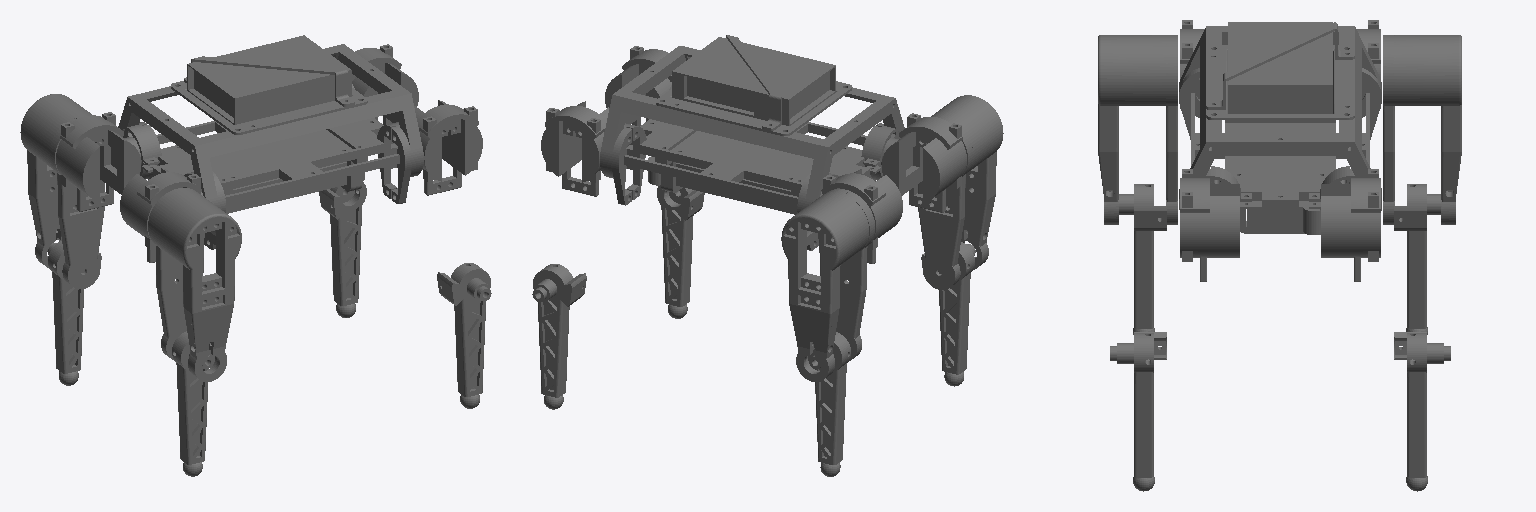
robot.urdf — qronk:
<?xml version="1.0" ?>
<!-- =================================================================================== -->
<!-- |    This document was autogenerated by xacro from qronk.urdf.xacro               | -->
<!-- |    EDITING THIS FILE BY HAND IS NOT RECOMMENDED                                 | -->
<!-- =================================================================================== -->
<robot name="qronk">
  <link name="base_link"/>
  <!-- RVIZ COLORS -->
  <material name="red">
    <color rgba="0.5 0 0 1"/>
  </material>
  <material name="green">
    <color rgba="0 0.5 0 1"/>
  </material>
  <material name="blue">
    <color rgba="0 0 0.5 1"/>
  </material>
  <material name="grey">
    <color rgba="0.5 0.5 0.5 1"/>
  </material>
  <!-- XACRO INERTIA MACROS -->
  <joint name="base_chassis_joint" type="fixed">
    <parent link="base_link"/>
    <child link="chassis_link"/>
    <origin rpy="0 0 0" xyz="0 0 0"/>
  </joint>
  <link name="chassis_link">
    <visual>
      <geometry>
        <mesh filename="package://qronk_description/meshes/chassis.stl" scale="0.001 0.001 0.001"/>
      </geometry>
      <origin rpy="0 0 0" xyz="0 0 0"/>
      <material name="grey"/>
    </visual>
    <collision>
      <geometry>
        <box size="0.185 0.136835 0.084144"/>
      </geometry>
      <origin rpy="0 0 0" xyz="0 0 0.003928"/>
    </collision>
    <inertial>
      <origin rpy="0 0 0" xyz="0 0 0.004"/>
      <mass value="0.3"/>
      <inertia ixx="0.001032025" ixy="0" ixz="0" iyy="0.0013248499999999998" iyz="0" izz="0.000645625"/>
    </inertial>
  </link>
  <joint name="chassis_battery_joint" type="fixed">
    <parent link="chassis_link"/>
    <child link="battery_link"/>
    <origin rpy="0 0 0" xyz="0 0 -0.0305"/>
  </joint>
  <link name="battery_link">
    <visual>
      <geometry>
        <mesh filename="package://qronk_description/meshes/battery.stl" scale="0.001 0.001 0.001"/>
      </geometry>
      <origin rpy="0 0 0" xyz="-0.069 -0.0225 0"/>
      <material name="grey"/>
    </visual>
    <collision>
      <geometry>
        <box size="0.138 0.045 0.018"/>
      </geometry>
      <origin rpy="0 0 0" xyz="0 0 0.009"/>
    </collision>
    <inertial>
      <origin rpy="0 0 0" xyz="0 0 0.009"/>
      <mass value="0.35"/>
      <inertia ixx="0.0005649" ixy="0" ixz="0" iyy="0.0006145125" iyz="0" izz="6.851249999999999e-05"/>
    </inertial>
  </link>
  <joint name="chassis_raspberry_joint" type="fixed">
    <parent link="chassis_link"/>
    <child link="raspberry_link"/>
    <origin rpy="0 0 0" xyz="0 0 0.044"/>
  </joint>
  <link name="raspberry_link">
    <visual>
      <geometry>
        <mesh filename="package://qronk_description/meshes/raspberry.stl" scale="0.001 0.001 0.001"/>
      </geometry>
      <origin rpy="0 0 0" xyz="-0.05 -0.035 0"/>
      <material name="grey"/>
    </visual>
    <collision>
      <geometry>
        <box size="0.1 0.07 0.025"/>
      </geometry>
      <origin rpy="0 0 0" xyz="0 0 0.0125"/>
    </collision>
    <inertial>
      <origin rpy="0 0 0" xyz="0 0 0.0125"/>
      <mass value="0.15"/>
      <inertia ixx="0.00013281250000000004" ixy="0" ixz="0" iyy="0.00018625000000000003" iyz="0" izz="6.90625e-05"/>
    </inertial>
  </link>
  <joint name="chassis_shoulder_FR_joint" type="revolute">
    <parent link="chassis_link"/>
    <child link="shoulder_FR_link"/>
    <origin rpy="0 0 0" xyz="0.0885 -0.047417 0.000052"/>
    <axis xyz="1 0 0"/>
    <limit effort="100" lower="-3.141592653589793" upper="3.141592653589793" velocity="100"/>
  </joint>
  <link name="shoulder_FR_link">
    <visual>
      <geometry>
        <mesh filename="package://qronk_description/meshes/shoulder_FR.stl" scale="0.001 0.001 0.001"/>
      </geometry>
      <origin rpy="0 0 0" xyz="0 0 0"/>
      <material name="grey"/>
    </visual>
    <collision>
      <geometry>
        <box size="0.05 0.04 0.068"/>
      </geometry>
      <origin rpy="0 0 0" xyz="0.03 0 -0.005"/>
    </collision>
    <inertial>
      <origin rpy="0 0 0" xyz="0.03 0 -0.005"/>
      <mass value="0.1"/>
      <inertia ixx="5.936666666666668e-05" ixy="0" ixz="0" iyy="3.416666666666667e-05" iyz="0" izz="5.186666666666667e-05"/>
    </inertial>
  </link>
  <joint name="shoulder_upper_leg_FR_joint" type="revolute">
    <parent link="shoulder_FR_link"/>
    <child link="upper_leg_FR_link"/>
    <origin rpy="0 0 0" xyz="0.03 -0.0214 -0.00002"/>
    <axis xyz="0 1 0"/>
    <limit effort="100" lower="-3.141592653589793" upper="3.141592653589793" velocity="100"/>
  </joint>
  <link name="upper_leg_FR_link">
    <visual>
      <geometry>
        <mesh filename="package://qronk_description/meshes/upper_leg_FR.stl" scale="0.001 0.001 0.001"/>
      </geometry>
      <origin rpy="0 0 0" xyz="0 0 0"/>
      <material name="grey"/>
    </visual>
    <collision>
      <geometry>
        <box size="0.05 0.0532 0.137"/>
      </geometry>
      <origin rpy="0 0 0" xyz="0 -0.0266 -0.0435"/>
    </collision>
    <inertial>
      <origin rpy="0 0 0" xyz="0 -0.0266 -0.0435"/>
      <mass value="0.1"/>
      <inertia ixx="2.239741666666667e-05" ixy="0" ixz="0" iyy="4.441866666666667e-05" iyz="0" izz="2.5149416666666667e-05"/>
    </inertial>
  </link>
  <joint name="upper_leg_lower_leg_FR_joint" type="revolute">
    <parent link="upper_leg_FR_link"/>
    <child link="lower_leg_FR_link"/>
    <origin rpy="0 0 0" xyz="0 -0.016349 -0.098459"/>
    <axis xyz="0 1 0"/>
    <limit effort="100" lower="-3.141592653589793" upper="3.141592653589793" velocity="100"/>
  </joint>
  <link name="lower_leg_FR_link">
    <visual>
      <geometry>
        <mesh filename="package://qronk_description/meshes/lower_leg_FR.stl" scale="0.001 0.001 0.001"/>
      </geometry>
      <origin rpy="0 0 0" xyz="0 0 0"/>
      <material name="grey"/>
    </visual>
    <collision>
      <geometry>
        <box size="0.028 0.0134 0.102"/>
      </geometry>
      <origin rpy="0 0 0" xyz="0 -0.0067 -0.037"/>
    </collision>
    <inertial>
      <origin rpy="0 0 0" xyz="0 -0.0067 -0.037"/>
      <mass value="0.1"/>
      <inertia ixx="9.323333333333333e-05" ixy="0" ixz="0" iyy="8.029666666666669e-06" iyz="0" izz="8.819633333333333e-05"/>
    </inertial>
  </link>
  <joint name="lower_leg_foot_FR_joint" type="fixed">
    <parent link="lower_leg_FR_link"/>
    <child link="foot_FR_link"/>
    <origin rpy="0 0 0" xyz="0 -0.0066835 -0.09416"/>
  </joint>
  <link name="foot_FR_link">
    <visual>
      <geometry>
        <sphere radius="0.0075"/>
      </geometry>
      <origin rpy="0 0 0" xyz="0 0 0"/>
      <material name="grey"/>
    </visual>
    <collision>
      <geometry>
        <sphere radius="0.0075"/>
      </geometry>
      <origin rpy="0 0 0" xyz="0 0 0"/>
    </collision>
    <inertial>
      <origin rpy="0 0 0" xyz="0 0 0"/>
      <mass value="0.05"/>
      <inertia ixx="1.125e-06" ixy="0" ixz="0" iyy="1.125e-06" iyz="0" izz="1.125e-06"/>
    </inertial>
  </link>
  <joint name="chassis_shoulder_FL_joint" type="revolute">
    <parent link="chassis_link"/>
    <child link="shoulder_FL_link"/>
    <origin rpy="0 0 0" xyz="0.0885 0.047417 0.000052"/>
    <axis xyz="1 0 0"/>
    <limit effort="100" lower="-3.141592653589793" upper="3.141592653589793" velocity="100"/>
  </joint>
  <link name="shoulder_FL_link">
    <visual>
      <geometry>
        <mesh filename="package://qronk_description/meshes/shoulder_FL.stl" scale="0.001 0.001 0.001"/>
      </geometry>
      <origin rpy="0 0 0" xyz="0 0 0"/>
      <material name="grey"/>
    </visual>
    <collision>
      <geometry>
        <box size="0.05 0.04 0.068"/>
      </geometry>
      <origin rpy="0 0 0" xyz="0.03 -0 -0.005"/>
    </collision>
    <inertial>
      <origin rpy="0 0 0" xyz="0.03 -0 -0.005"/>
      <mass value="0.1"/>
      <inertia ixx="5.936666666666668e-05" ixy="0" ixz="0" iyy="3.416666666666667e-05" iyz="0" izz="5.186666666666667e-05"/>
    </inertial>
  </link>
  <joint name="shoulder_upper_leg_FL_joint" type="revolute">
    <parent link="shoulder_FL_link"/>
    <child link="upper_leg_FL_link"/>
    <origin rpy="0 0 0" xyz="0.03 0.0214 -0.00002"/>
    <axis xyz="0 1 0"/>
    <limit effort="100" lower="-3.141592653589793" upper="3.141592653589793" velocity="100"/>
  </joint>
  <link name="upper_leg_FL_link">
    <visual>
      <geometry>
        <mesh filename="package://qronk_description/meshes/upper_leg_FL.stl" scale="0.001 0.001 0.001"/>
      </geometry>
      <origin rpy="0 0 0" xyz="0 0 0"/>
      <material name="grey"/>
    </visual>
    <collision>
      <geometry>
        <box size="0.05 0.0532 0.137"/>
      </geometry>
      <origin rpy="0 0 0" xyz="0 0.0266 -0.0435"/>
    </collision>
    <inertial>
      <origin rpy="0 0 0" xyz="0 0.0266 -0.0435"/>
      <mass value="0.1"/>
      <inertia ixx="2.239741666666667e-05" ixy="0" ixz="0" iyy="4.441866666666667e-05" iyz="0" izz="2.5149416666666667e-05"/>
    </inertial>
  </link>
  <joint name="upper_leg_lower_leg_FL_joint" type="revolute">
    <parent link="upper_leg_FL_link"/>
    <child link="lower_leg_FL_link"/>
    <origin rpy="0 0 0" xyz="0 0.016349 -0.098459"/>
    <axis xyz="0 1 0"/>
    <limit effort="100" lower="-3.141592653589793" upper="3.141592653589793" velocity="100"/>
  </joint>
  <link name="lower_leg_FL_link">
    <visual>
      <geometry>
        <mesh filename="package://qronk_description/meshes/lower_leg_FL.stl" scale="0.001 0.001 0.001"/>
      </geometry>
      <origin rpy="0 0 0" xyz="0 0 0"/>
      <material name="grey"/>
    </visual>
    <collision>
      <geometry>
        <box size="0.028 0.0134 0.102"/>
      </geometry>
      <origin rpy="0 0 0" xyz="0 0.0067 -0.037"/>
    </collision>
    <inertial>
      <origin rpy="0 0 0" xyz="0 0.0067 -0.037"/>
      <mass value="0.1"/>
      <inertia ixx="9.323333333333333e-05" ixy="0" ixz="0" iyy="8.029666666666669e-06" iyz="0" izz="8.819633333333333e-05"/>
    </inertial>
  </link>
  <joint name="lower_leg_foot_FL_joint" type="fixed">
    <parent link="lower_leg_FL_link"/>
    <child link="foot_FL_link"/>
    <origin rpy="0 0 0" xyz="0 0.0066835 -0.09416"/>
  </joint>
  <link name="foot_FL_link">
    <visual>
      <geometry>
        <sphere radius="0.0075"/>
      </geometry>
      <origin rpy="0 0 0" xyz="0 0 0"/>
      <material name="grey"/>
    </visual>
    <collision>
      <geometry>
        <sphere radius="0.0075"/>
      </geometry>
      <origin rpy="0 0 0" xyz="0 0 0"/>
    </collision>
    <inertial>
      <origin rpy="0 0 0" xyz="0 0 0"/>
      <mass value="0.05"/>
      <inertia ixx="1.125e-06" ixy="0" ixz="0" iyy="1.125e-06" iyz="0" izz="1.125e-06"/>
    </inertial>
  </link>
  <joint name="chassis_shoulder_BR_joint" type="revolute">
    <parent link="chassis_link"/>
    <child link="shoulder_BR_link"/>
    <origin rpy="0 0 0" xyz="-0.0885 -0.047417 0.000052"/>
    <axis xyz="1 0 0"/>
    <limit effort="100" lower="-3.141592653589793" upper="3.141592653589793" velocity="100"/>
  </joint>
  <link name="shoulder_BR_link">
    <visual>
      <geometry>
        <mesh filename="package://qronk_description/meshes/shoulder_BR.stl" scale="0.001 0.001 0.001"/>
      </geometry>
      <origin rpy="0 0 0" xyz="0 0 0"/>
      <material name="grey"/>
    </visual>
    <collision>
      <geometry>
        <box size="0.05 0.04 0.068"/>
      </geometry>
      <origin rpy="0 0 0" xyz="-0.03 0 -0.005"/>
    </collision>
    <inertial>
      <origin rpy="0 0 0" xyz="-0.03 0 -0.005"/>
      <mass value="0.1"/>
      <inertia ixx="5.936666666666668e-05" ixy="0" ixz="0" iyy="3.416666666666667e-05" iyz="0" izz="5.186666666666667e-05"/>
    </inertial>
  </link>
  <joint name="shoulder_upper_leg_BR_joint" type="revolute">
    <parent link="shoulder_BR_link"/>
    <child link="upper_leg_BR_link"/>
    <origin rpy="0 0 0" xyz="-0.03 -0.0214 -0.00002"/>
    <axis xyz="0 1 0"/>
    <limit effort="100" lower="-3.141592653589793" upper="3.141592653589793" velocity="100"/>
  </joint>
  <link name="upper_leg_BR_link">
    <visual>
      <geometry>
        <mesh filename="package://qronk_description/meshes/upper_leg_BR.stl" scale="0.001 0.001 0.001"/>
      </geometry>
      <origin rpy="0 0 0" xyz="0 0 0"/>
      <material name="grey"/>
    </visual>
    <collision>
      <geometry>
        <box size="0.05 0.0532 0.137"/>
      </geometry>
      <origin rpy="0 0 0" xyz="-0 -0.0266 -0.0435"/>
    </collision>
    <inertial>
      <origin rpy="0 0 0" xyz="-0 -0.0266 -0.0435"/>
      <mass value="0.1"/>
      <inertia ixx="2.239741666666667e-05" ixy="0" ixz="0" iyy="4.441866666666667e-05" iyz="0" izz="2.5149416666666667e-05"/>
    </inertial>
  </link>
  <joint name="upper_leg_lower_leg_BR_joint" type="revolute">
    <parent link="upper_leg_BR_link"/>
    <child link="lower_leg_BR_link"/>
    <origin rpy="0 0 0" xyz="-0 -0.016349 -0.098459"/>
    <axis xyz="0 1 0"/>
    <limit effort="100" lower="-3.141592653589793" upper="3.141592653589793" velocity="100"/>
  </joint>
  <link name="lower_leg_BR_link">
    <visual>
      <geometry>
        <mesh filename="package://qronk_description/meshes/lower_leg_BR.stl" scale="0.001 0.001 0.001"/>
      </geometry>
      <origin rpy="0 0 0" xyz="0 0 0"/>
      <material name="grey"/>
    </visual>
    <collision>
      <geometry>
        <box size="0.028 0.0134 0.102"/>
      </geometry>
      <origin rpy="0 0 0" xyz="-0 -0.0067 -0.037"/>
    </collision>
    <inertial>
      <origin rpy="0 0 0" xyz="-0 -0.0067 -0.037"/>
      <mass value="0.1"/>
      <inertia ixx="9.323333333333333e-05" ixy="0" ixz="0" iyy="8.029666666666669e-06" iyz="0" izz="8.819633333333333e-05"/>
    </inertial>
  </link>
  <joint name="lower_leg_foot_BR_joint" type="fixed">
    <parent link="lower_leg_BR_link"/>
    <child link="foot_BR_link"/>
    <origin rpy="0 0 0" xyz="-0 -0.0066835 -0.09416"/>
  </joint>
  <link name="foot_BR_link">
    <visual>
      <geometry>
        <sphere radius="0.0075"/>
      </geometry>
      <origin rpy="0 0 0" xyz="0 0 0"/>
      <material name="grey"/>
    </visual>
    <collision>
      <geometry>
        <sphere radius="0.0075"/>
      </geometry>
      <origin rpy="0 0 0" xyz="0 0 0"/>
    </collision>
    <inertial>
      <origin rpy="0 0 0" xyz="0 0 0"/>
      <mass value="0.05"/>
      <inertia ixx="1.125e-06" ixy="0" ixz="0" iyy="1.125e-06" iyz="0" izz="1.125e-06"/>
    </inertial>
  </link>
  <joint name="chassis_shoulder_BL_joint" type="revolute">
    <parent link="chassis_link"/>
    <child link="shoulder_BL_link"/>
    <origin rpy="0 0 0" xyz="-0.0885 0.047417 0.000052"/>
    <axis xyz="1 0 0"/>
    <limit effort="100" lower="-3.141592653589793" upper="3.141592653589793" velocity="100"/>
  </joint>
  <link name="shoulder_BL_link">
    <visual>
      <geometry>
        <mesh filename="package://qronk_description/meshes/shoulder_BL.stl" scale="0.001 0.001 0.001"/>
      </geometry>
      <origin rpy="0 0 0" xyz="0 0 0"/>
      <material name="grey"/>
    </visual>
    <collision>
      <geometry>
        <box size="0.05 0.04 0.068"/>
      </geometry>
      <origin rpy="0 0 0" xyz="-0.03 -0 -0.005"/>
    </collision>
    <inertial>
      <origin rpy="0 0 0" xyz="-0.03 -0 -0.005"/>
      <mass value="0.1"/>
      <inertia ixx="5.936666666666668e-05" ixy="0" ixz="0" iyy="3.416666666666667e-05" iyz="0" izz="5.186666666666667e-05"/>
    </inertial>
  </link>
  <joint name="shoulder_upper_leg_BL_joint" type="revolute">
    <parent link="shoulder_BL_link"/>
    <child link="upper_leg_BL_link"/>
    <origin rpy="0 0 0" xyz="-0.03 0.0214 -0.00002"/>
    <axis xyz="0 1 0"/>
    <limit effort="100" lower="-3.141592653589793" upper="3.141592653589793" velocity="100"/>
  </joint>
  <link name="upper_leg_BL_link">
    <visual>
      <geometry>
        <mesh filename="package://qronk_description/meshes/upper_leg_BL.stl" scale="0.001 0.001 0.001"/>
      </geometry>
      <origin rpy="0 0 0" xyz="0 0 0"/>
      <material name="grey"/>
    </visual>
    <collision>
      <geometry>
        <box size="0.05 0.0532 0.137"/>
      </geometry>
      <origin rpy="0 0 0" xyz="-0 0.0266 -0.0435"/>
    </collision>
    <inertial>
      <origin rpy="0 0 0" xyz="-0 0.0266 -0.0435"/>
      <mass value="0.1"/>
      <inertia ixx="2.239741666666667e-05" ixy="0" ixz="0" iyy="4.441866666666667e-05" iyz="0" izz="2.5149416666666667e-05"/>
    </inertial>
  </link>
  <joint name="upper_leg_lower_leg_BL_joint" type="revolute">
    <parent link="upper_leg_BL_link"/>
    <child link="lower_leg_BL_link"/>
    <origin rpy="0 0 0" xyz="-0 0.016349 -0.098459"/>
    <axis xyz="0 1 0"/>
    <limit effort="100" lower="-3.141592653589793" upper="3.141592653589793" velocity="100"/>
  </joint>
  <link name="lower_leg_BL_link">
    <visual>
      <geometry>
        <mesh filename="package://qronk_description/meshes/lower_leg_BL.stl" scale="0.001 0.001 0.001"/>
      </geometry>
      <origin rpy="0 0 0" xyz="0 0 0"/>
      <material name="grey"/>
    </visual>
    <collision>
      <geometry>
        <box size="0.028 0.0134 0.102"/>
      </geometry>
      <origin rpy="0 0 0" xyz="-0 0.0067 -0.037"/>
    </collision>
    <inertial>
      <origin rpy="0 0 0" xyz="-0 0.0067 -0.037"/>
      <mass value="0.1"/>
      <inertia ixx="9.323333333333333e-05" ixy="0" ixz="0" iyy="8.029666666666669e-06" iyz="0" izz="8.819633333333333e-05"/>
    </inertial>
  </link>
  <joint name="lower_leg_foot_BL_joint" type="fixed">
    <parent link="lower_leg_BL_link"/>
    <child link="foot_BL_link"/>
    <origin rpy="0 0 0" xyz="-0 0.0066835 -0.09416"/>
  </joint>
  <link name="foot_BL_link">
    <visual>
      <geometry>
        <sphere radius="0.0075"/>
      </geometry>
      <origin rpy="0 0 0" xyz="0 0 0"/>
      <material name="grey"/>
    </visual>
    <collision>
      <geometry>
        <sphere radius="0.0075"/>
      </geometry>
      <origin rpy="0 0 0" xyz="0 0 0"/>
    </collision>
    <inertial>
      <origin rpy="0 0 0" xyz="0 0 0"/>
      <mass value="0.05"/>
      <inertia ixx="1.125e-06" ixy="0" ixz="0" iyy="1.125e-06" iyz="0" izz="1.125e-06"/>
    </inertial>
  </link>
  <!-- chassis.xacro materials -->
  <gazebo reference="chassis_link">
    <material>Gazebo/Grey</material>
  </gazebo>
  <gazebo reference="battery_link">
    <material>Gazebo/Grey</material>
  </gazebo>
  <gazebo reference="raspberry_link">
    <material>Gazebo/Grey</material>
  </gazebo>
  <!-- leg_FR.xacro materials -->
  <gazebo reference="shoulder_FR_link">
    <material>Gazebo/Grey</material>
  </gazebo>
  <gazebo reference="upper_leg_FR_link">
    <material>Gazebo/Grey</material>
  </gazebo>
  <gazebo reference="lower_leg_FR_link">
    <material>Gazebo/Grey</material>
  </gazebo>
  <gazebo reference="foot_FR_link">
    <material>Gazebo/Grey</material>
  </gazebo>
  <!-- leg_FL.xacro materials -->
  <gazebo reference="shoulder_FL_link">
    <material>Gazebo/Grey</material>
  </gazebo>
  <gazebo reference="upper_leg_FL_link">
    <material>Gazebo/Grey</material>
  </gazebo>
  <gazebo reference="lower_leg_FL_link">
    <material>Gazebo/Grey</material>
  </gazebo>
  <gazebo reference="foot_FL_link">
    <material>Gazebo/Grey</material>
  </gazebo>
  <!-- leg_BR.xacro materials -->
  <gazebo reference="shoulder_BR_link">
    <material>Gazebo/Grey</material>
  </gazebo>
  <gazebo reference="upper_leg_BR_link">
    <material>Gazebo/Grey</material>
  </gazebo>
  <gazebo reference="lower_leg_BR_link">
    <material>Gazebo/Grey</material>
  </gazebo>
  <gazebo reference="foot_BR_link">
    <material>Gazebo/Grey</material>
  </gazebo>
  <!-- leg_BL.xacro materials -->
  <gazebo reference="shoulder_BL_link">
    <material>Gazebo/Grey</material>
  </gazebo>
  <gazebo reference="upper_leg_BL_link">
    <material>Gazebo/Grey</material>
  </gazebo>
  <gazebo reference="lower_leg_BL_link">
    <material>Gazebo/Grey</material>
  </gazebo>
  <gazebo reference="foot_BL_link">
    <material>Gazebo/Grey</material>
  </gazebo>
  <!-- Gazebo plugins for servo joints -->
  <!-- Refer to https://github.com/ros-simulation/gazebo_ros_pkgs/tree/ros2/gazebo_plugins/include/gazebo_plugins -->
  <gazebo>
    <plugin filename="libgazebo_ros_joint_state_publisher.so" name="joint_state_publisher">
      <!-- Update rate in Hertz -->
      <update_rate>10</update_rate>
      <!-- Name of joints in the model whose states will be published. -->
      <joint_name>chassis_shoulder_FR_joint</joint_name>
      <joint_name>shoulder_upper_leg_FR_joint</joint_name>
      <joint_name>upper_leg_lower_leg_FR_joint</joint_name>
      <joint_name>lower_leg_foot_FR_joint</joint_name>
      <joint_name>chassis_shoulder_FL_joint</joint_name>
      <joint_name>shoulder_upper_leg_FL_joint</joint_name>
      <joint_name>upper_leg_lower_leg_FL_joint</joint_name>
      <joint_name>lower_leg_foot_FL_joint</joint_name>
      <joint_name>chassis_shoulder_BR_joint</joint_name>
      <joint_name>shoulder_upper_leg_BR_joint</joint_name>
      <joint_name>upper_leg_lower_leg_BR_joint</joint_name>
      <joint_name>lower_leg_foot_BR_joint</joint_name>
      <joint_name>chassis_shoulder_BL_joint</joint_name>
      <joint_name>shoulder_upper_leg_BL_joint</joint_name>
      <joint_name>upper_leg_lower_leg_BL_joint</joint_name>
      <joint_name>lower_leg_foot_BL_joint</joint_name>
    </plugin>
  </gazebo>
  <gazebo>
    <plugin filename="libgazebo_ros_joint_pose_trajectory.so" name="joint_pose_trajectory">
      <!-- Update rate in Hz -->
      <update_rate>2</update_rate>
    </plugin>
  </gazebo>
  <!-- <xacro:include filename="imu.xacro" /> -->
</robot>

--- Render facts (derived) ---
The picture shows the robot from 3 angles, left to right: view 1: azimuth 30°, elevation 25°; view 2: azimuth 150°, elevation 25°; view 3: azimuth 270°, elevation 25°; orthographic projection.
Robot: qronk — 20 links, 19 joints (12 revolute, 7 fixed); root link base_link; default pose: every joint at zero.
Links seen in each view (by area): view 1: chassis_link, upper_leg_BR_link, upper_leg_BL_link, raspberry_link, shoulder_BL_link, shoulder_FR_link, lower_leg_FR_link, lower_leg_FL_link, lower_leg_BR_link, lower_leg_BL_link, shoulder_BR_link, shoulder_FL_link (+1 smaller); view 2: chassis_link, upper_leg_BL_link, upper_leg_BR_link, raspberry_link, shoulder_BR_link, shoulder_FL_link, lower_leg_FL_link, lower_leg_FR_link, lower_leg_BL_link, lower_leg_BR_link, shoulder_BL_link, shoulder_FR_link (+1 smaller); view 3: chassis_link, upper_leg_BR_link, upper_leg_BL_link, raspberry_link, shoulder_FR_link, shoulder_FL_link, lower_leg_FR_link, lower_leg_FL_link, lower_leg_BR_link, lower_leg_BL_link, battery_link, shoulder_BR_link (+1 smaller).
Boxes of the visible links, left/top/right/bottom form: chassis_link: left=118, top=44, right=423, bottom=249; upper_leg_BR_link: left=148, top=188, right=241, bottom=381; upper_leg_BL_link: left=20, top=94, right=104, bottom=288; raspberry_link: left=187, top=35, right=351, bottom=124; shoulder_BL_link: left=56, top=112, right=141, bottom=211; shoulder_FR_link: left=414, top=100, right=482, bottom=195; lower_leg_FR_link: left=437, top=263, right=491, bottom=396; lower_leg_FL_link: left=319, top=181, right=366, bottom=305; lower_leg_BR_link: left=172, top=331, right=214, bottom=464; lower_leg_BL_link: left=47, top=241, right=101, bottom=373; shoulder_BR_link: left=120, top=168, right=203, bottom=262; shoulder_FL_link: left=352, top=44, right=418, bottom=124; chassis_link: left=600, top=35, right=904, bottom=250; upper_leg_BL_link: left=781, top=189, right=874, bottom=381; upper_leg_BR_link: left=918, top=95, right=1003, bottom=289; raspberry_link: left=672, top=37, right=835, bottom=125; shoulder_BR_link: left=881, top=113, right=966, bottom=212; shoulder_FL_link: left=541, top=101, right=626, bottom=196; lower_leg_FL_link: left=532, top=264, right=586, bottom=397; lower_leg_FR_link: left=657, top=185, right=704, bottom=306; lower_leg_BL_link: left=808, top=332, right=850, bottom=464; lower_leg_BR_link: left=921, top=242, right=975, bottom=374; shoulder_BL_link: left=820, top=169, right=902, bottom=263; shoulder_FR_link: left=605, top=46, right=671, bottom=126; chassis_link: left=1179, top=22, right=1381, bottom=233; upper_leg_BR_link: left=1098, top=35, right=1177, bottom=224; upper_leg_BL_link: left=1383, top=35, right=1461, bottom=224; raspberry_link: left=1228, top=22, right=1332, bottom=113; shoulder_FR_link: left=1180, top=169, right=1239, bottom=281; shoulder_FL_link: left=1321, top=169, right=1380, bottom=281; lower_leg_FR_link: left=1110, top=332, right=1166, bottom=477; lower_leg_FL_link: left=1394, top=332, right=1450, bottom=477; lower_leg_BR_link: left=1119, top=184, right=1166, bottom=328; lower_leg_BL_link: left=1394, top=184, right=1440, bottom=328; battery_link: left=1247, top=201, right=1320, bottom=234; shoulder_BR_link: left=1180, top=20, right=1204, bottom=108.
Bounding box of the posed robot: 0.287 × 0.2449 × 0.2711 m (x, y, z).
Meshes: 15 distinct files referenced, 13 mesh visuals loaded (13 binary STL); not drawn: 2 (reference not matched to a file when rendering).
